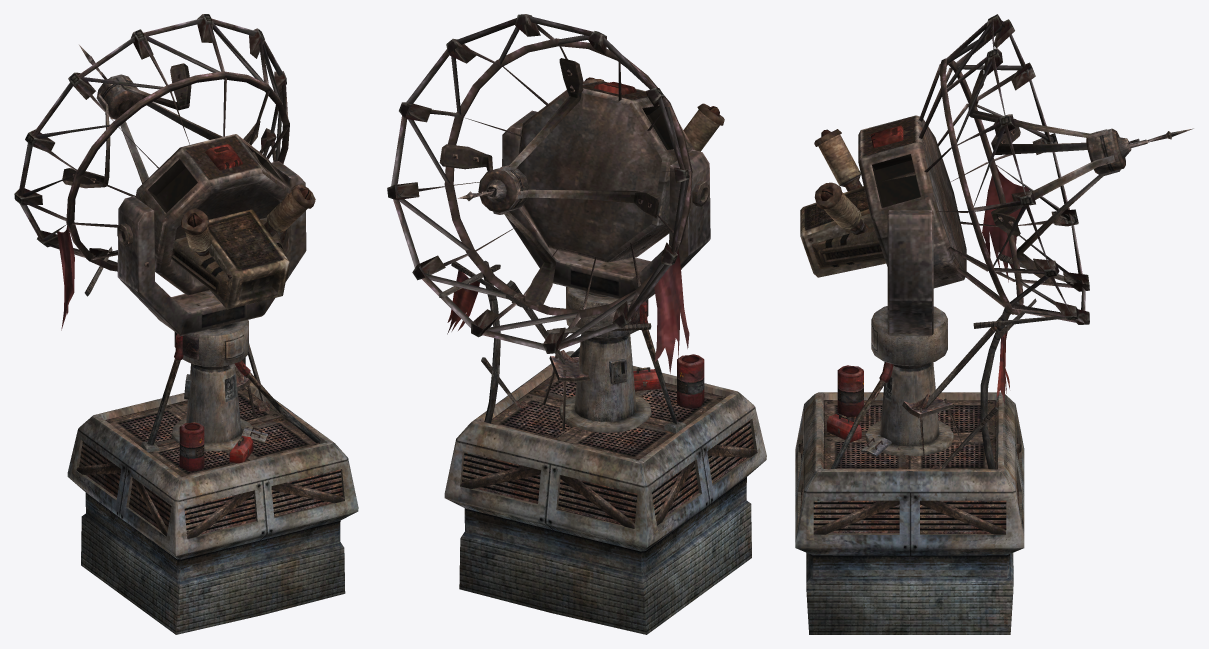
The model's file is radar 1.FBX.
3 views of the same model, side by side, from view 1: azimuth 30°, elevation 25°; view 2: azimuth 150°, elevation 25°; view 3: azimuth 270°, elevation 25° (orthographic). The views are drawn at different scales.
Visible parts, largest first — view 1: Mesh Object; view 2: Mesh Object; view 3: Mesh Object.
Boxes of the visible parts, box(x1,y1,x2,y2) form: Mesh Object: box(14, 14, 358, 634); Mesh Object: box(387, 14, 766, 634); Mesh Object: box(795, 14, 1193, 634).
Size of the model in its own units: 16691 by 32443 by 20998.
